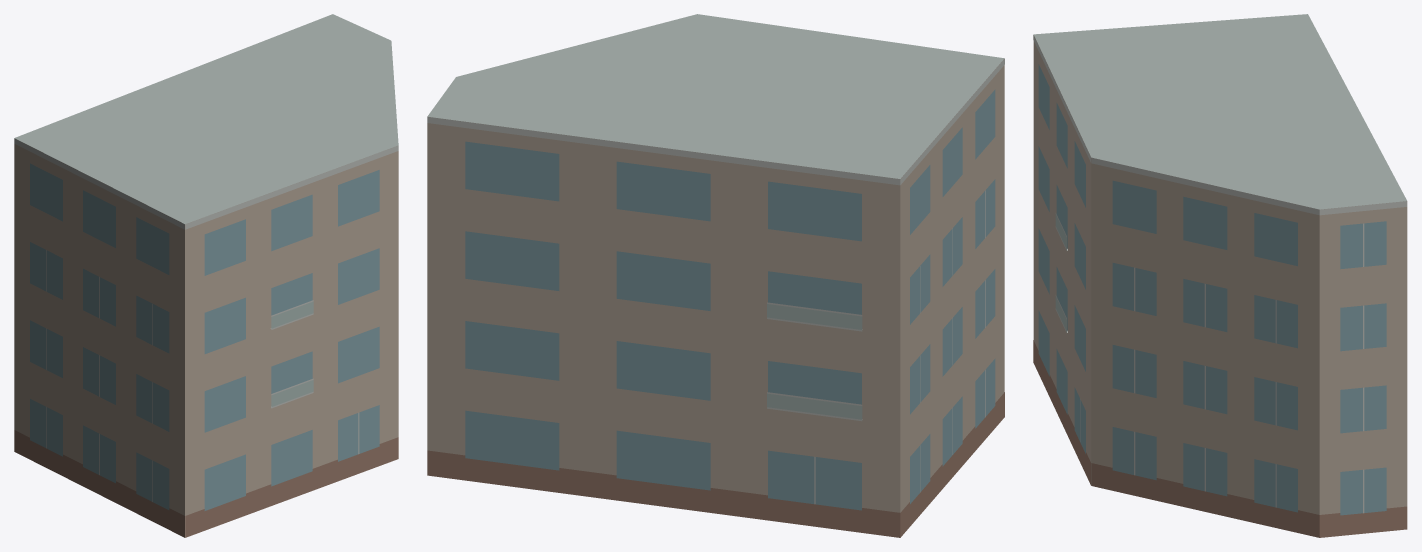
Rendered from survey-upis-32578262.glb.
The picture shows the model from 3 angles, left to right: view 1: azimuth 30°, elevation 25°; view 2: azimuth 150°, elevation 25°; view 3: azimuth 270°, elevation 25°; orthographic projection. The views are drawn at different scales.
Visible parts, largest first — view 1: survey-upis-32578262.tmp; view 2: survey-upis-32578262.tmp; view 3: survey-upis-32578262.tmp.
Boxes of the visible parts, x1,y1,x2,y2 form: survey-upis-32578262.tmp: (14,14,398,537); survey-upis-32578262.tmp: (427,14,1004,537); survey-upis-32578262.tmp: (1033,14,1407,537).
Bounding box in the file's own units: 17.7 × 13.85 × 14.3.
